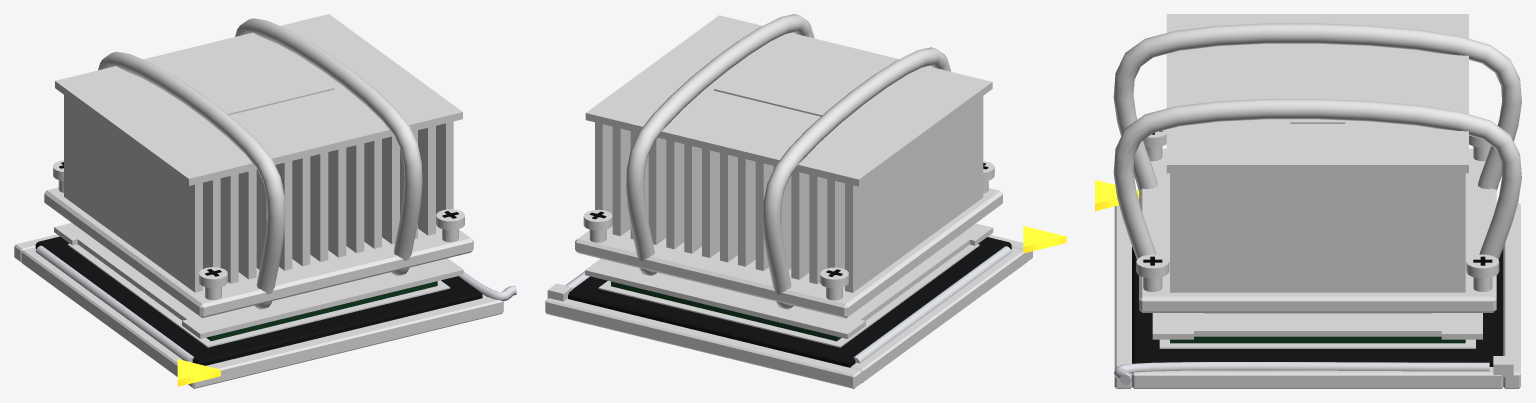
Rendered from asm_cpu_t1.glb.
3 views of the same model, side by side, from view 1: azimuth 30°, elevation 25°; view 2: azimuth 150°, elevation 25°; view 3: azimuth 270°, elevation 25° (orthographic). The views are drawn at different scales.
Parts seen in each view (by area): view 1: Cooler, Socket, Frame, CPU, Screw_1, Screw_3, Lever; view 2: Cooler, Socket, Frame, CPU, Screw_2, Screw_0; view 3: Cooler, Socket, Frame, Lever, CPU, Screw_2, Screw_3, Screw_1, Screw_0.
Part boxes in pixels (x1,y1,x2,y2): Cooler: (44,14,473,317); Socket: (14,234,503,388); Frame: (54,223,463,338); CPU: (206,281,437,340); Screw_1: (199,267,227,300); Screw_3: (436,209,464,242); Lever: (459,272,516,301); Cooler: (575,14,1002,318); Socket: (545,226,1066,388); Frame: (585,223,993,338); CPU: (611,281,841,341); Screw_2: (583,209,612,242); Screw_0: (820,267,848,300); Cooler: (1113,14,1521,312); Socket: (1095,180,1520,388); Frame: (1152,313,1482,339); Lever: (1114,362,1489,384); CPU: (1170,313,1465,343); Screw_2: (1466,254,1499,291); Screw_3: (1136,254,1169,291); Screw_1: (1143,129,1166,161); Screw_0: (1469,135,1490,161).
Bounding box in the file's own units: 0.1338 × 0.0775 × 0.1241.
